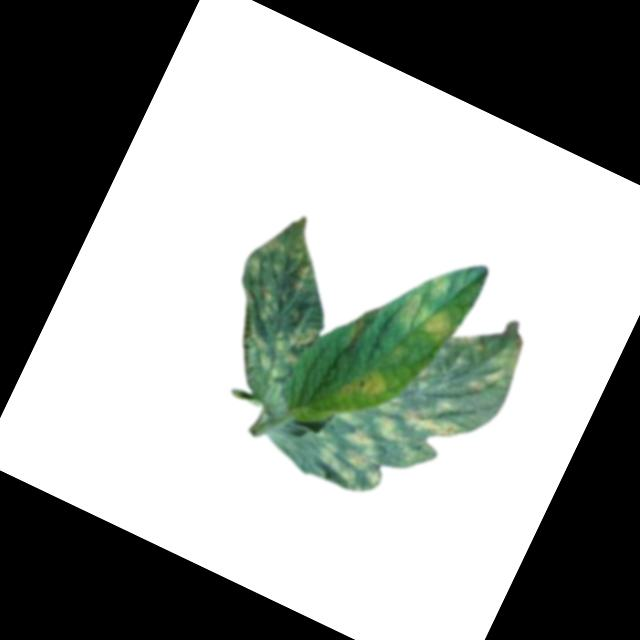Leaf_Mold: (307, 286, 526, 534), (197, 198, 366, 405), (337, 352, 397, 415), (393, 291, 456, 347), (425, 265, 457, 303)
